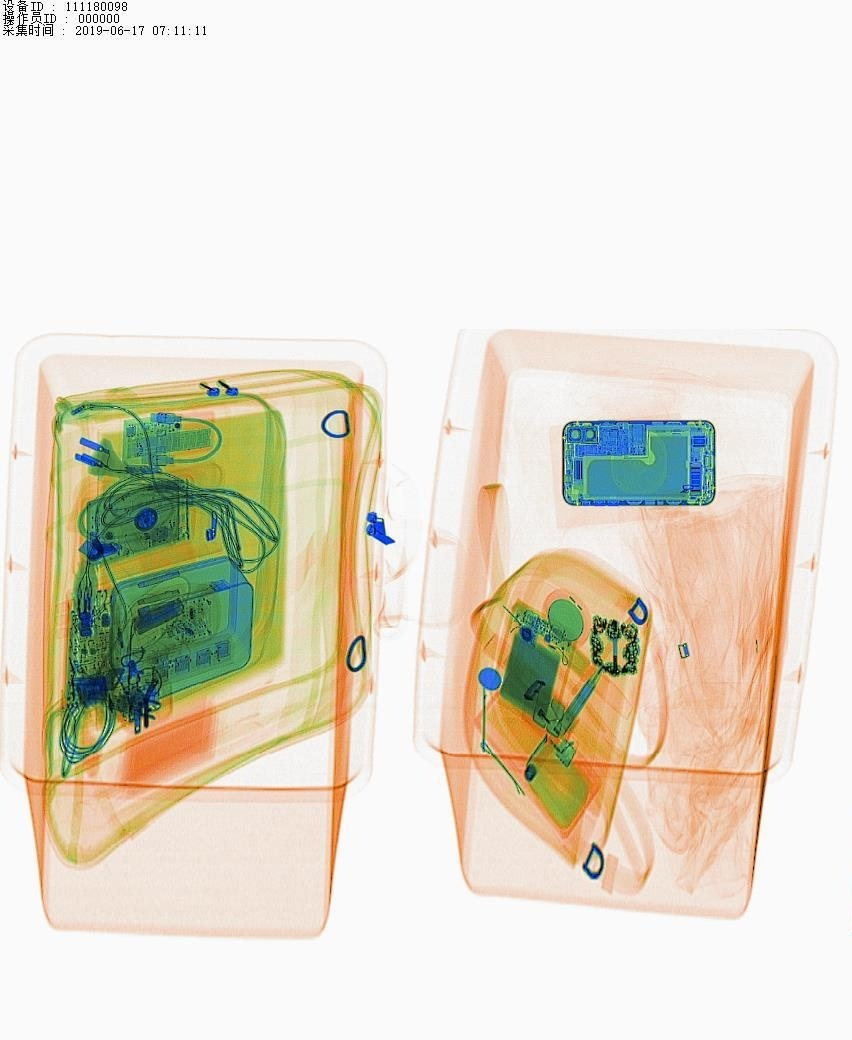NonmetallicFire: (515, 681, 601, 776)
